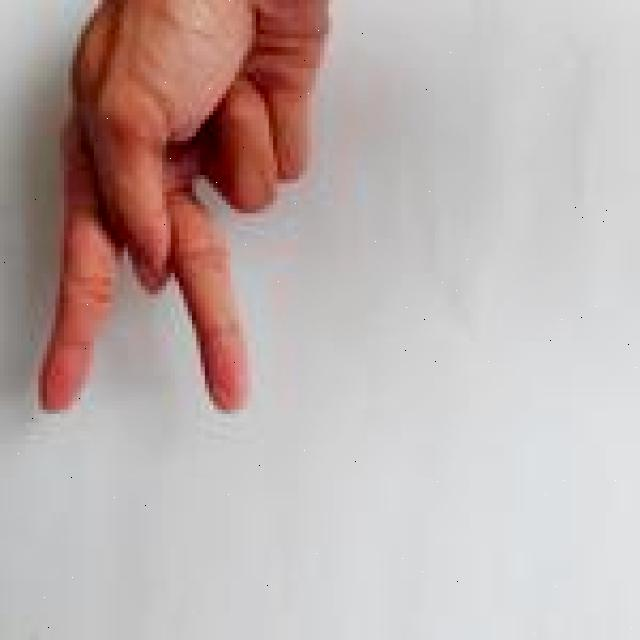P: (19, 0, 340, 421)
